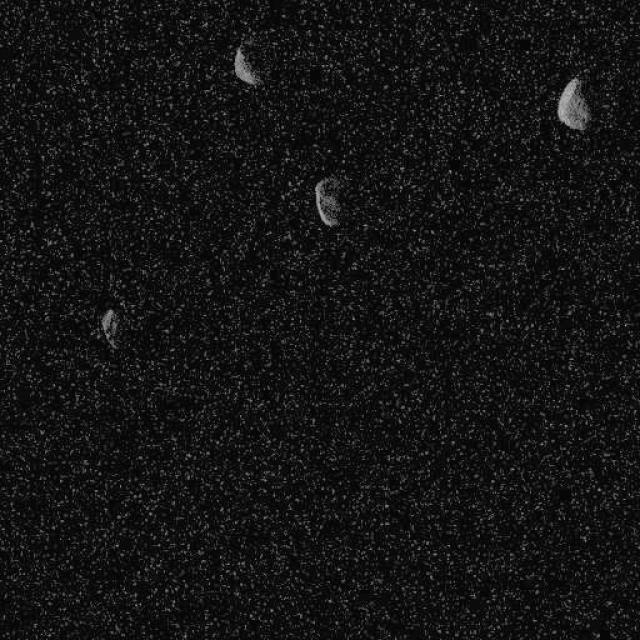D2: (555, 75, 591, 131), (314, 174, 345, 228), (231, 44, 261, 88), (99, 306, 120, 350)
